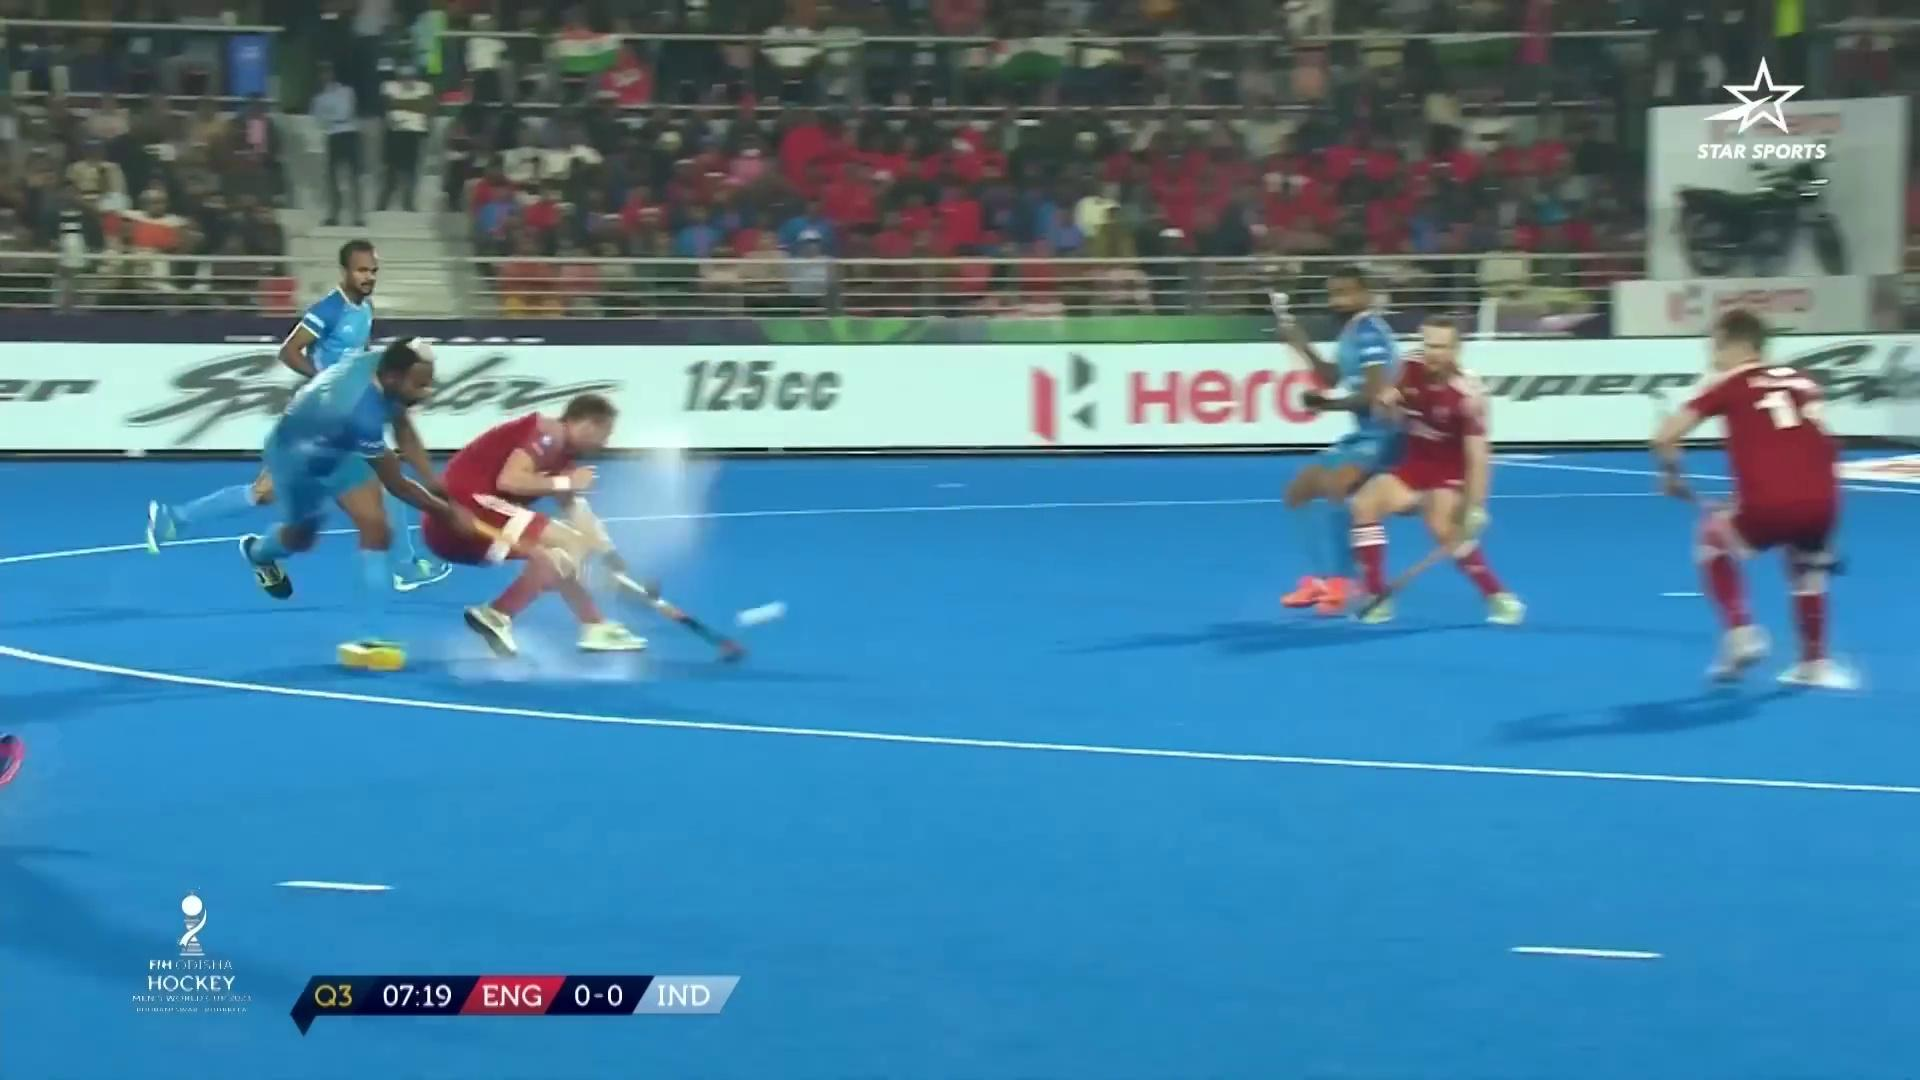ball: (742, 584, 795, 641)
